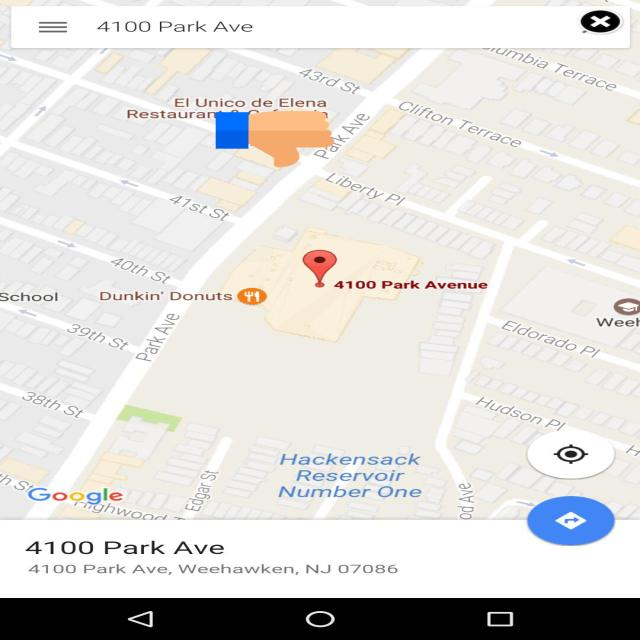obstruction: (216, 110, 334, 168)
